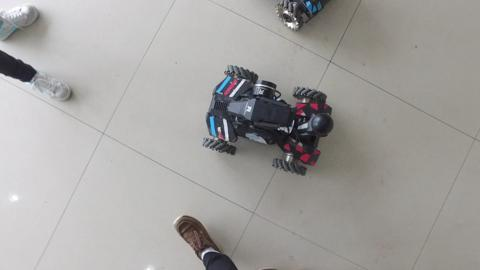chariot: (193, 63, 338, 182)
